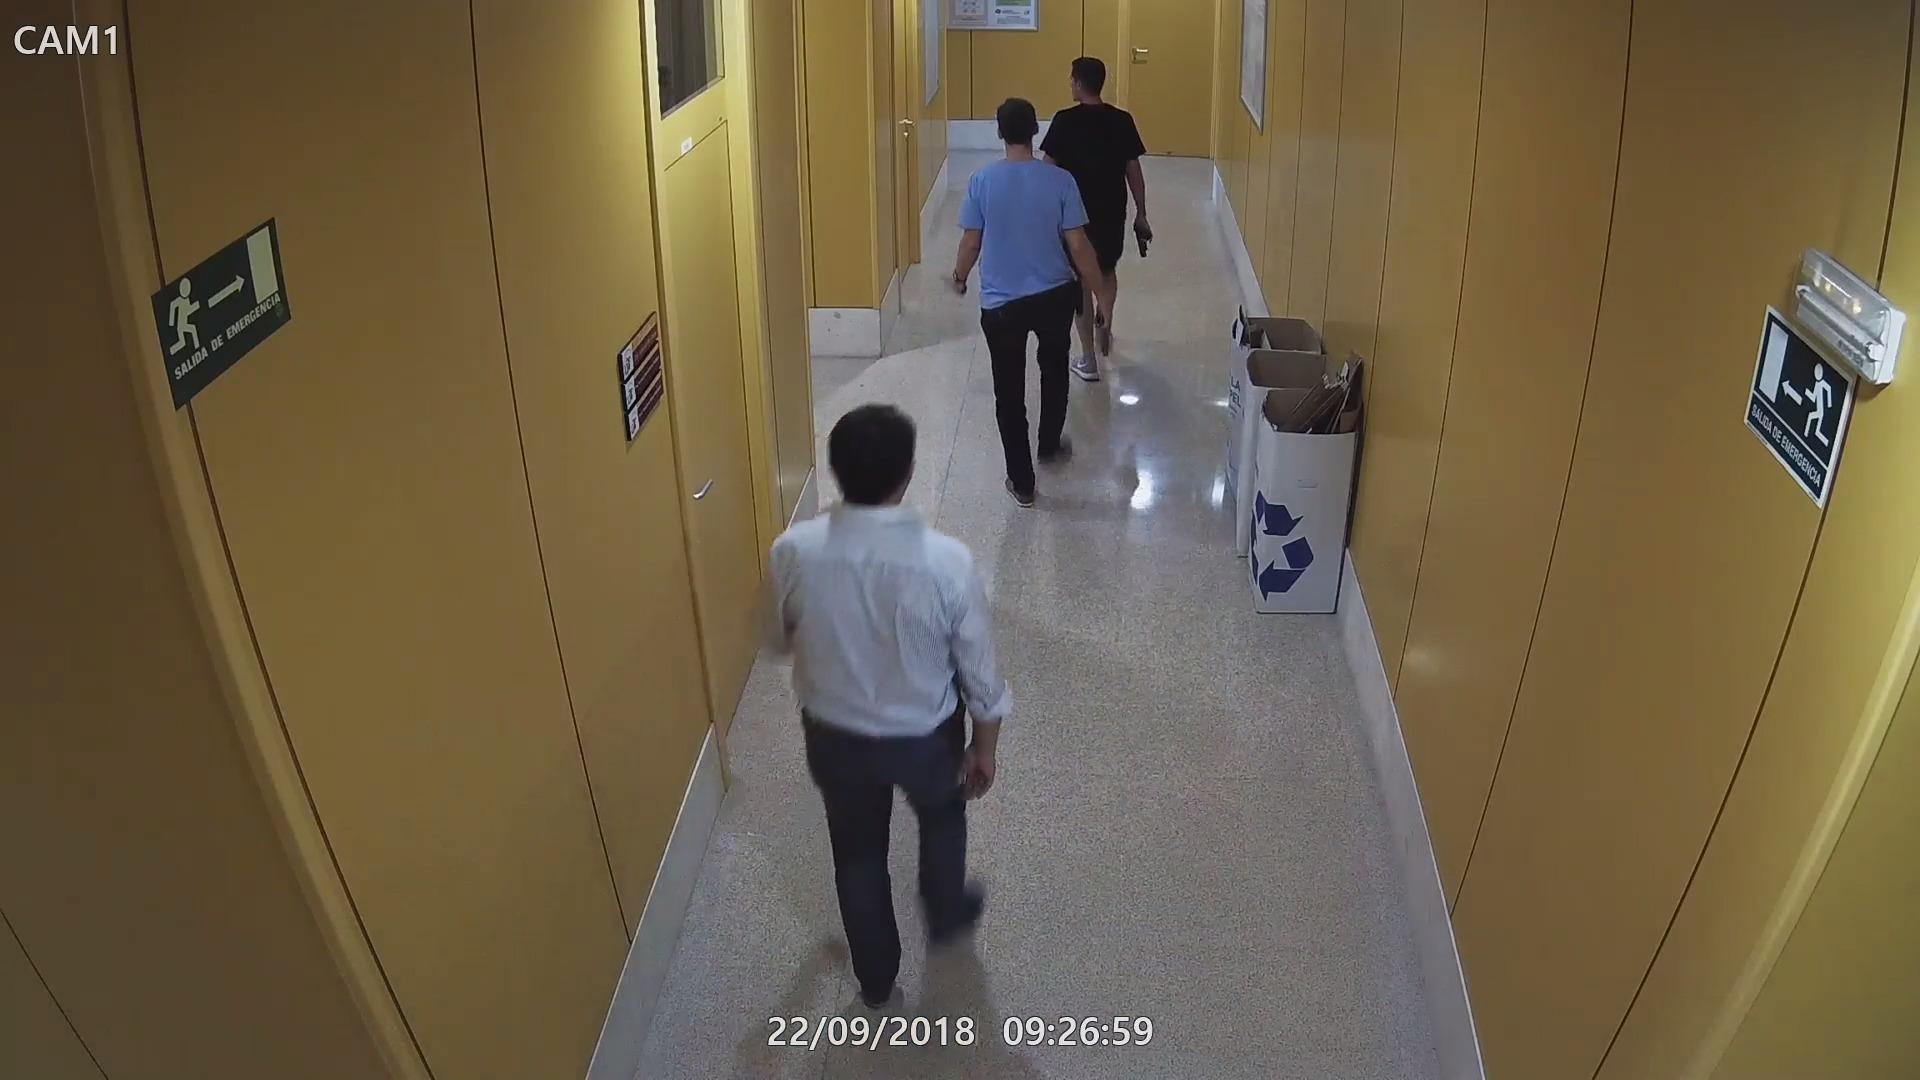Handgun: (1092, 294, 1118, 360), (1131, 220, 1158, 260)
